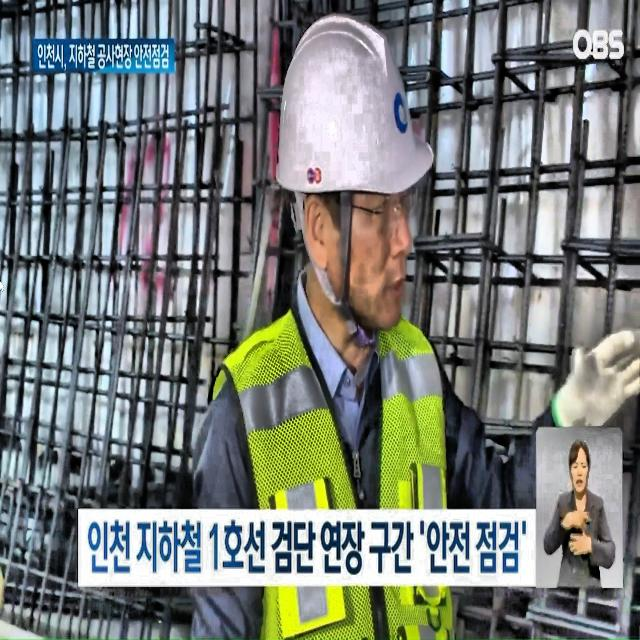safety_helmet: (272, 11, 470, 212)
safety_jacket: (209, 316, 493, 640)
